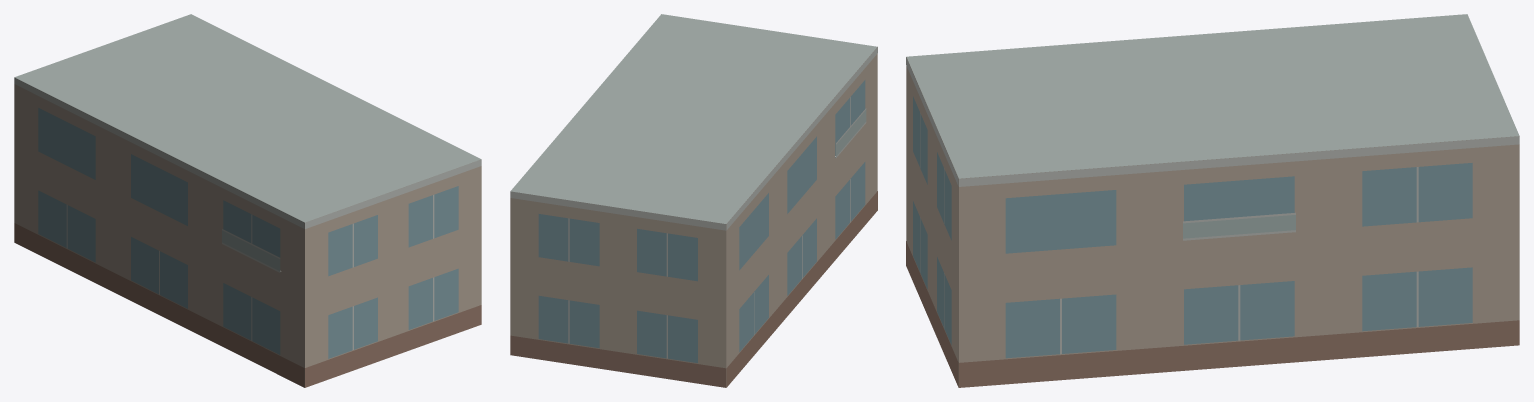
Rendered from survey-upis-32708433.glb.
3 renders of one model, left to right at view 1: azimuth 30°, elevation 25°; view 2: azimuth 150°, elevation 25°; view 3: azimuth 270°, elevation 25°, orthographic. The views are drawn at different scales.
Parts seen in each view (by area): view 1: survey-upis-32708433.tmp; view 2: survey-upis-32708433.tmp; view 3: survey-upis-32708433.tmp.
Part boxes in pixels (x1,y1,x2,y2): survey-upis-32708433.tmp: [14, 14, 481, 387]; survey-upis-32708433.tmp: [510, 14, 877, 387]; survey-upis-32708433.tmp: [906, 14, 1519, 387].
Bounding box in the file's own units: 10.3 × 6.1 × 16.22.
